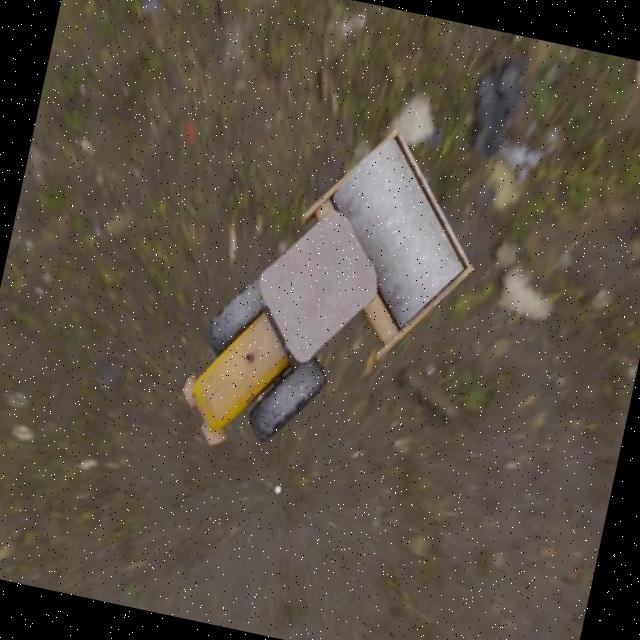Roller: (172, 93, 498, 491)
